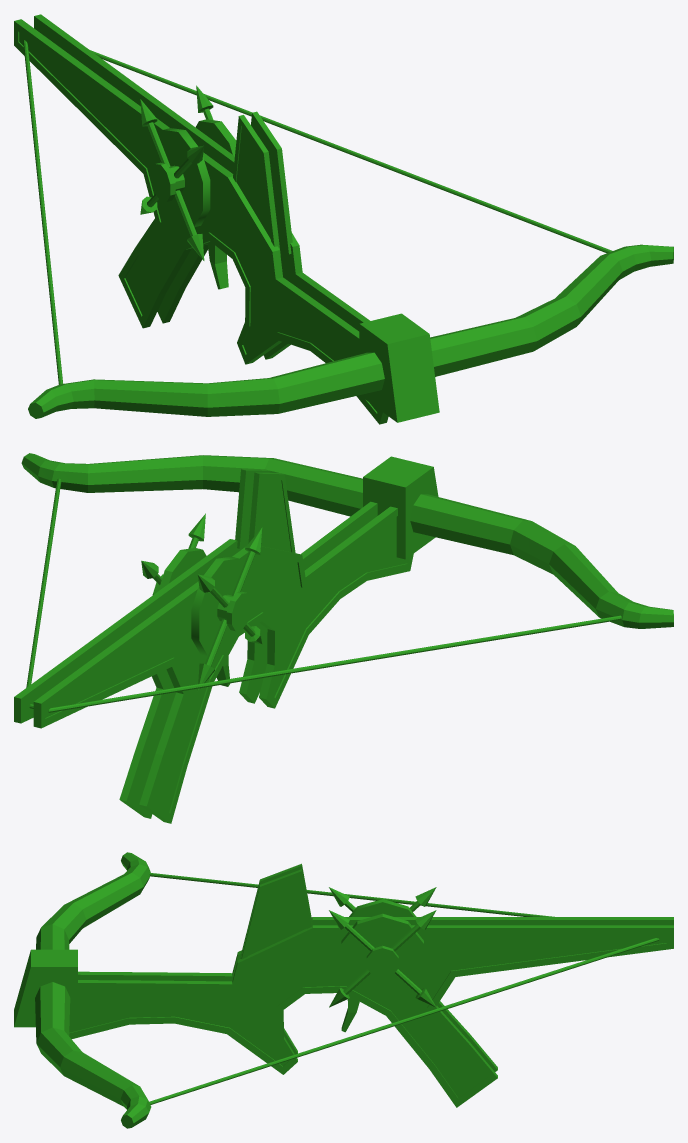
Rendered from Mad Race_Crossbow.fbx.
The picture shows the model from 3 angles, top to bottom: view 1: azimuth 30°, elevation 25°; view 2: azimuth 150°, elevation 25°; view 3: azimuth 270°, elevation 25°; orthographic projection. The views are drawn at different scales.
Visible parts, largest first — view 1: Object001; view 2: Object001; view 3: Object001.
Boxes of the visible parts, left/top/right/bottom form: Object001: left=14, top=14, right=673, bottom=424; Object001: left=14, top=453, right=673, bottom=823; Object001: left=14, top=852, right=673, bottom=1128.
Bounding box in the file's own units: 52.47 × 21.61 × 55.01.
